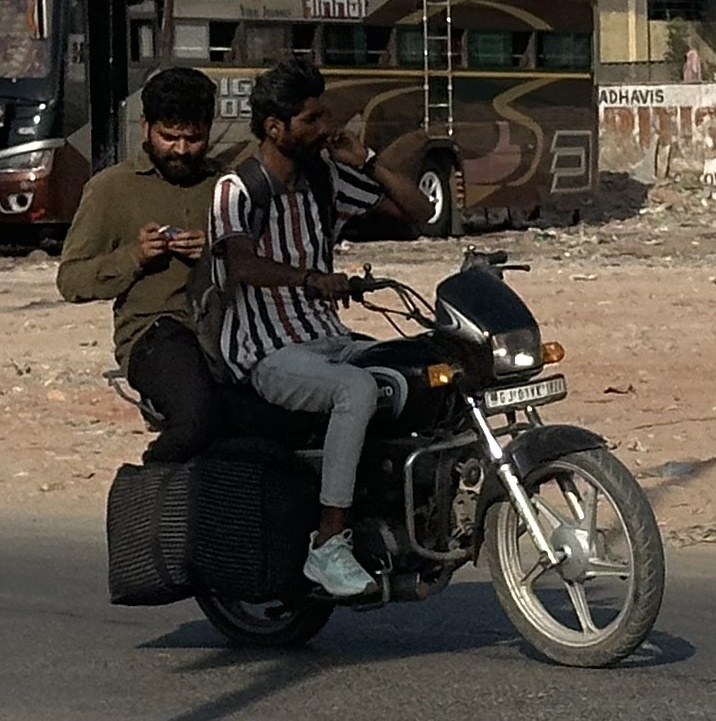BikeWithRider: (47, 43, 679, 677)
NoHelmet: (125, 57, 228, 183), (237, 50, 342, 169)
